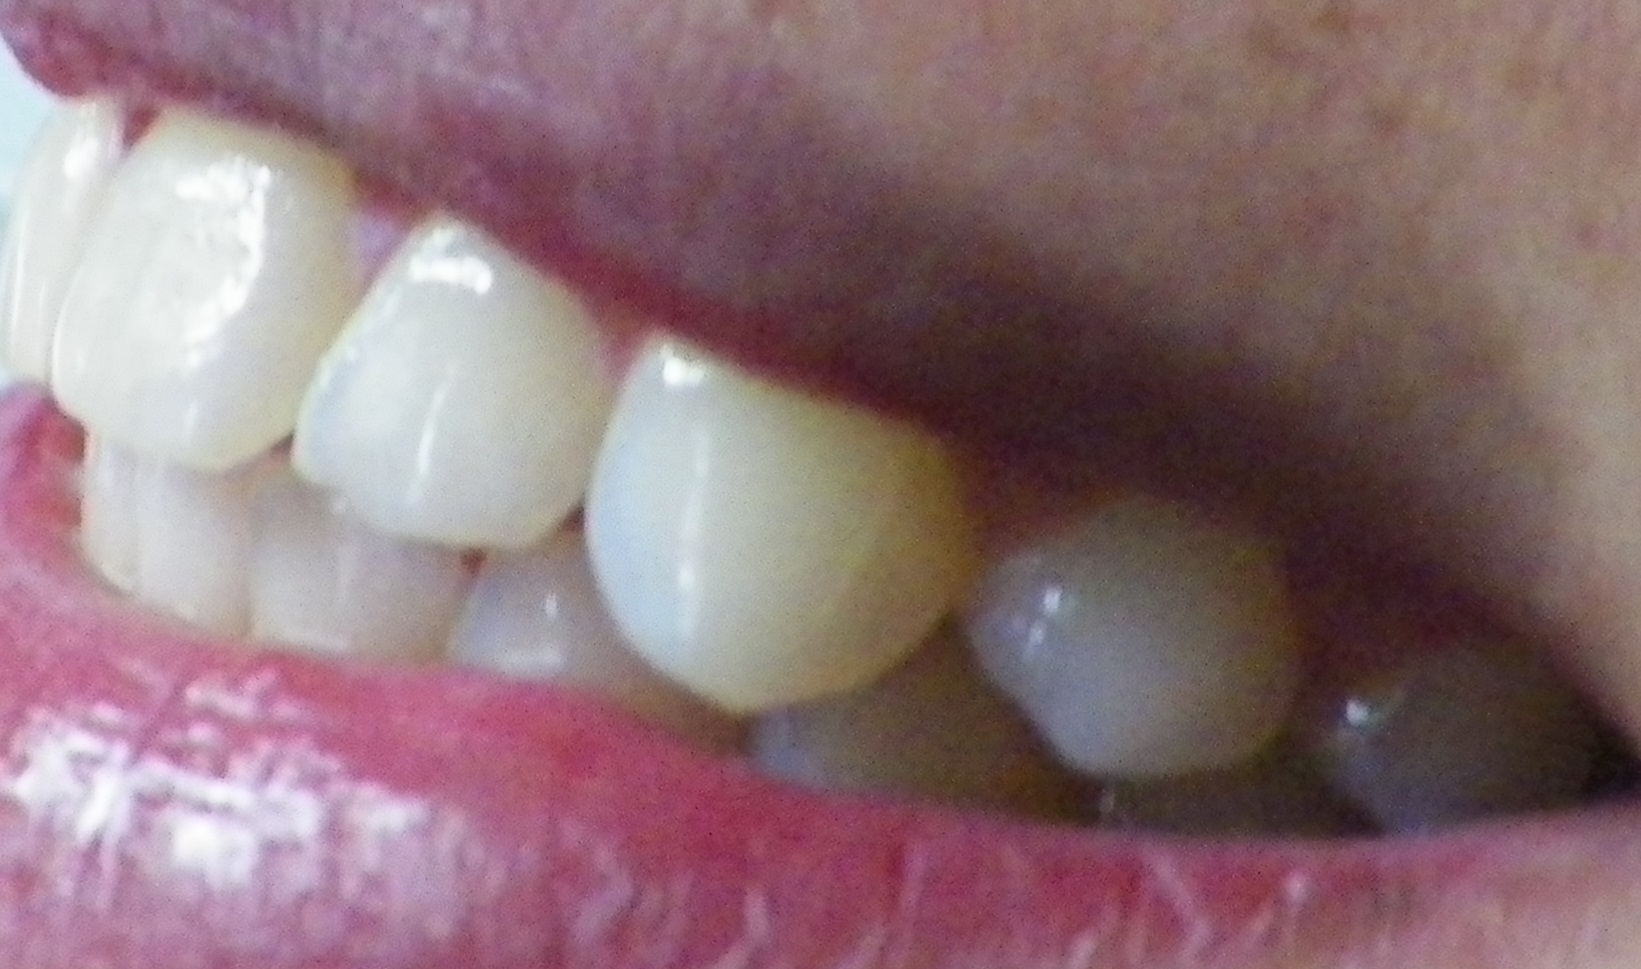boca: (5, 72, 1611, 837)
